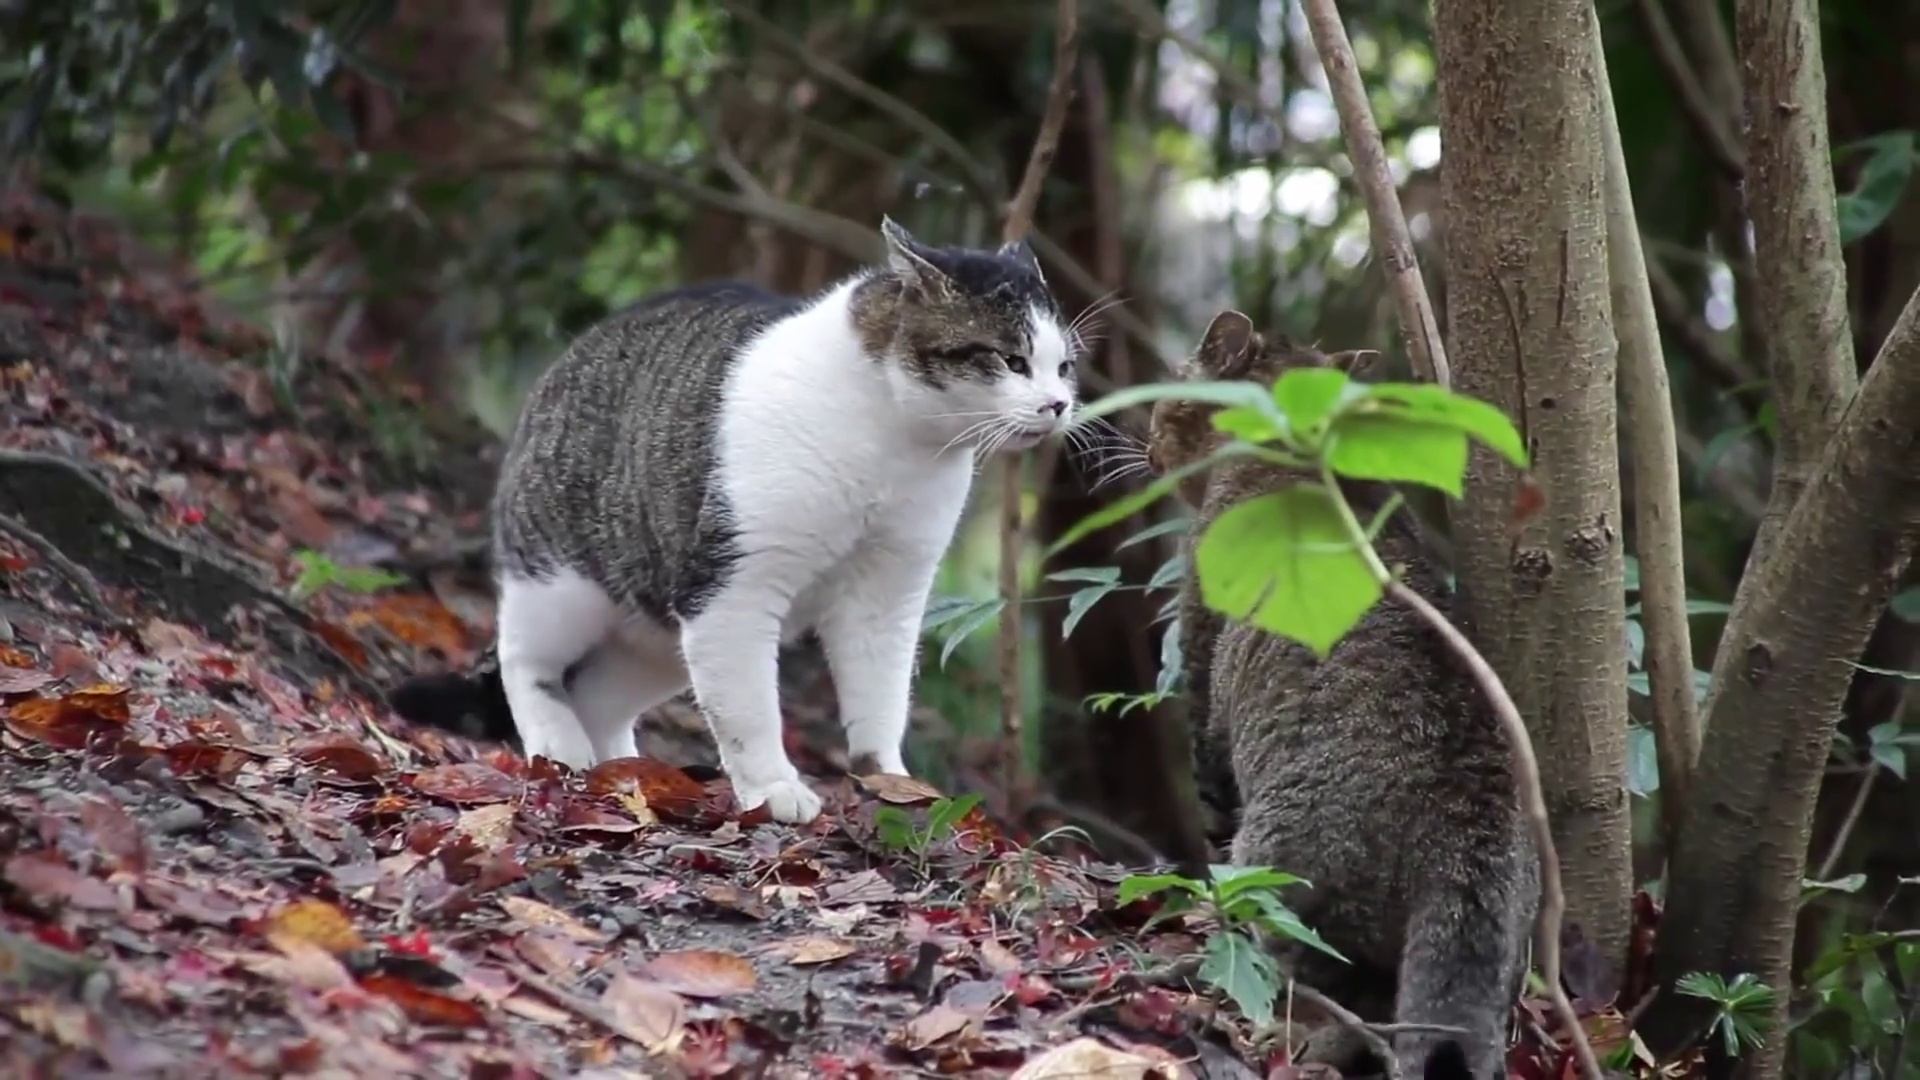black-white: (496, 214, 1077, 825)
pure black: (1145, 313, 1543, 1080)
